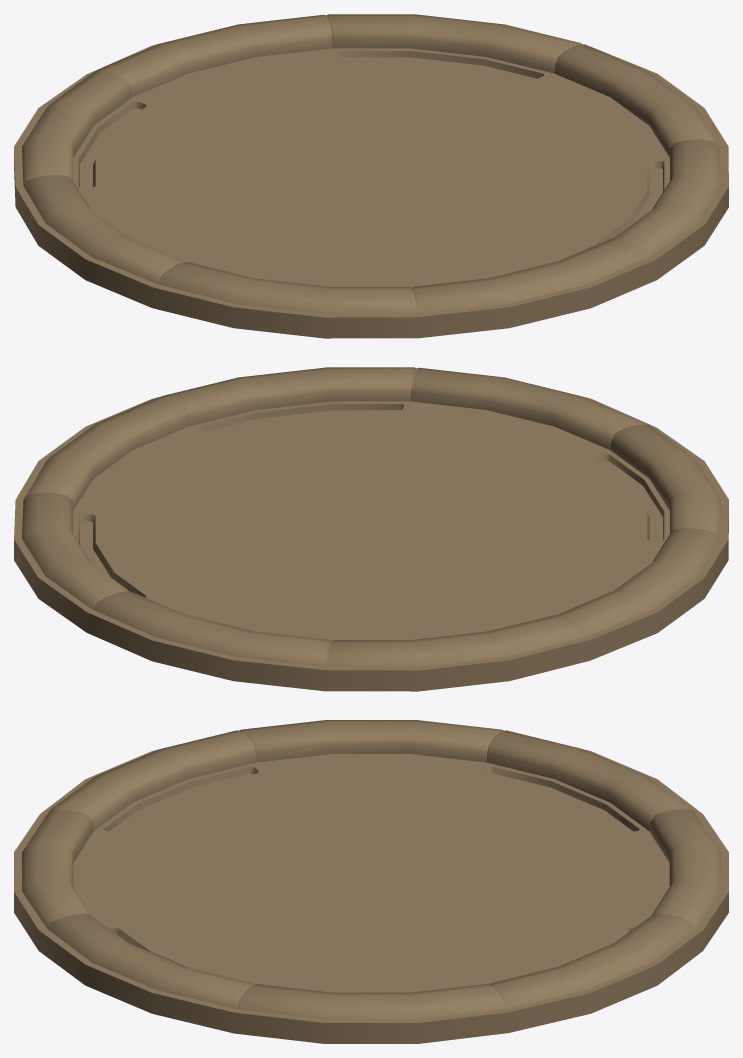
File: SM_RoundTable_Frame.fbx
3 renders of one model, top to bottom at view 1: azimuth 30°, elevation 25°; view 2: azimuth 150°, elevation 25°; view 3: azimuth 270°, elevation 25°, orthographic.
Visible parts, largest first — view 1: SM_RoundTable_Frame; view 2: SM_RoundTable_Frame; view 3: SM_RoundTable_Frame.
Boxes of the visible parts, x1=… form: SM_RoundTable_Frame: x1=14, y1=14, x2=728, y2=338; SM_RoundTable_Frame: x1=14, y1=367, x2=728, y2=691; SM_RoundTable_Frame: x1=14, y1=720, x2=728, y2=1043.
Size of the model in its own units: 219 by 10.38 by 219.
